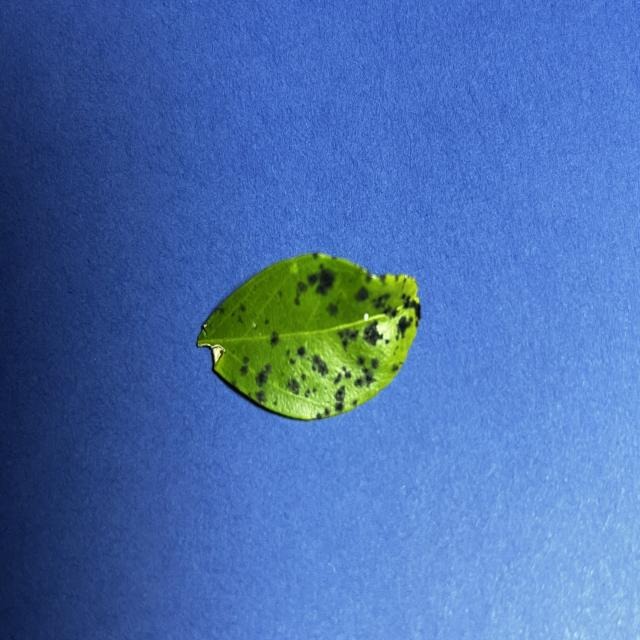sooty_mold: (197, 253, 421, 420)
